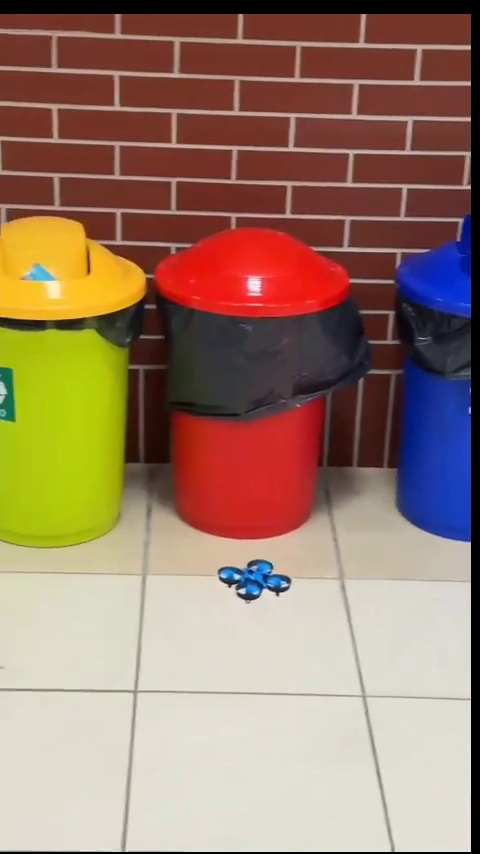drone: (216, 559, 293, 603)
